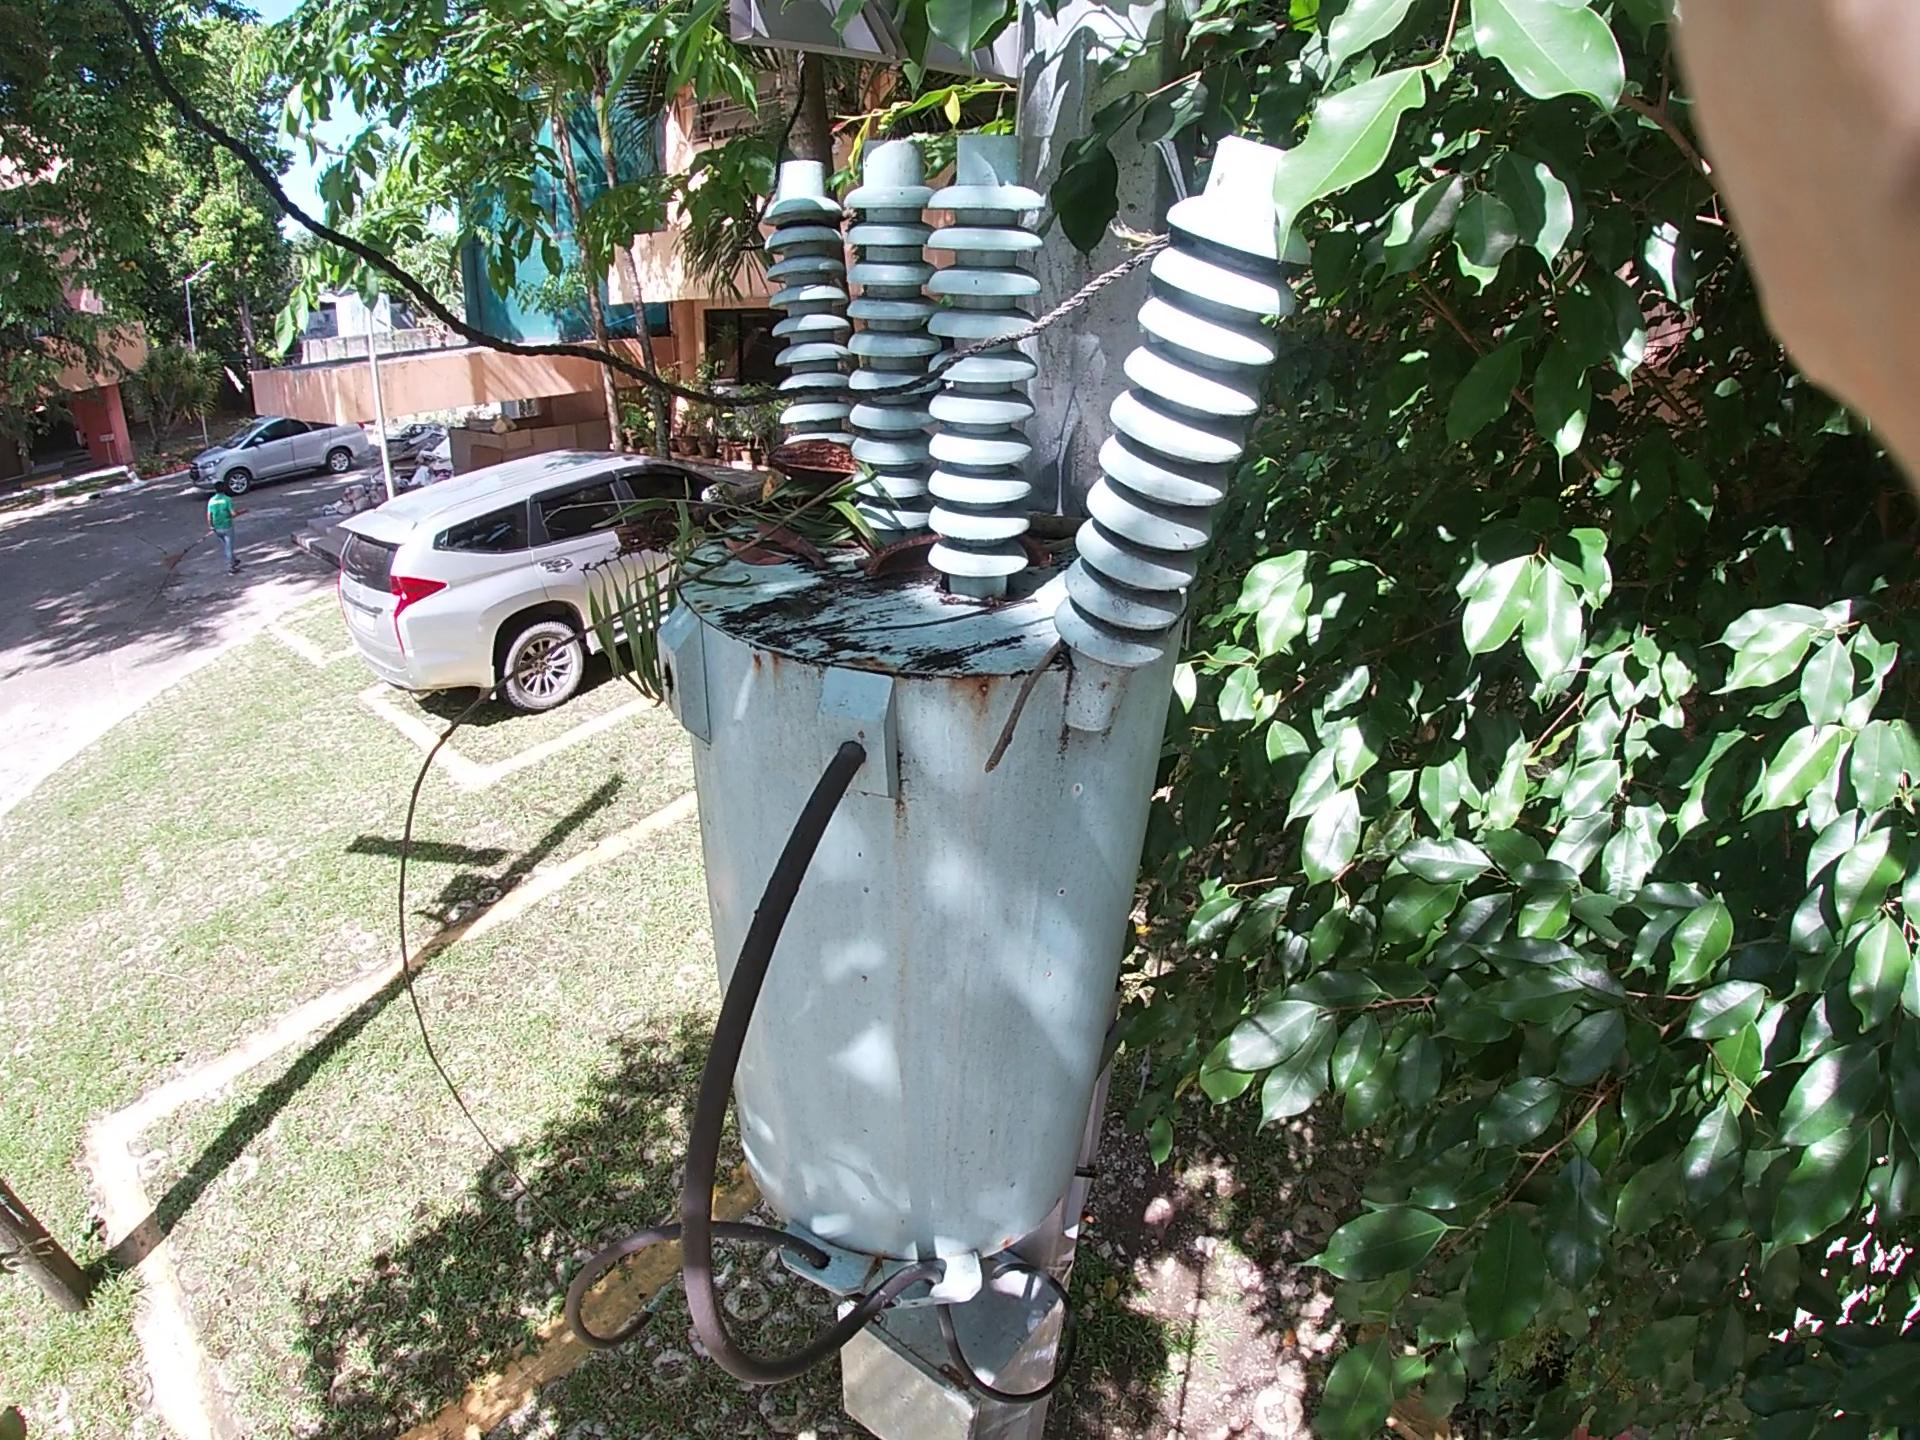branch with leaves: (701, 371, 881, 646)
leaf: (741, 501, 812, 570)
mahogany fruit: (739, 402, 910, 517), (838, 492, 1417, 502)
tree branch: (177, 476, 830, 953), (850, 473, 1181, 669), (972, 570, 1175, 781)
